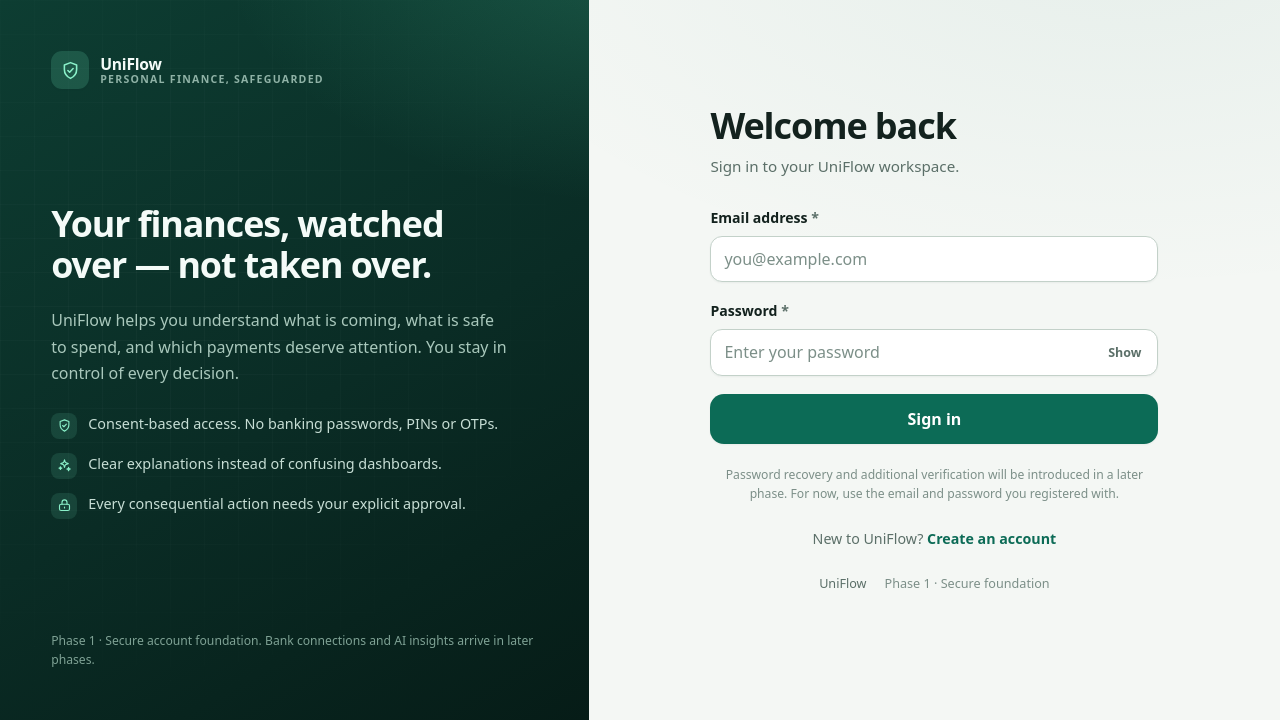
login form › shows invalid credential errors from the API
Type "asha@example.com" into the field labelled "Email address *" at (934, 259), box left=710, top=236, right=1158, bottom=282
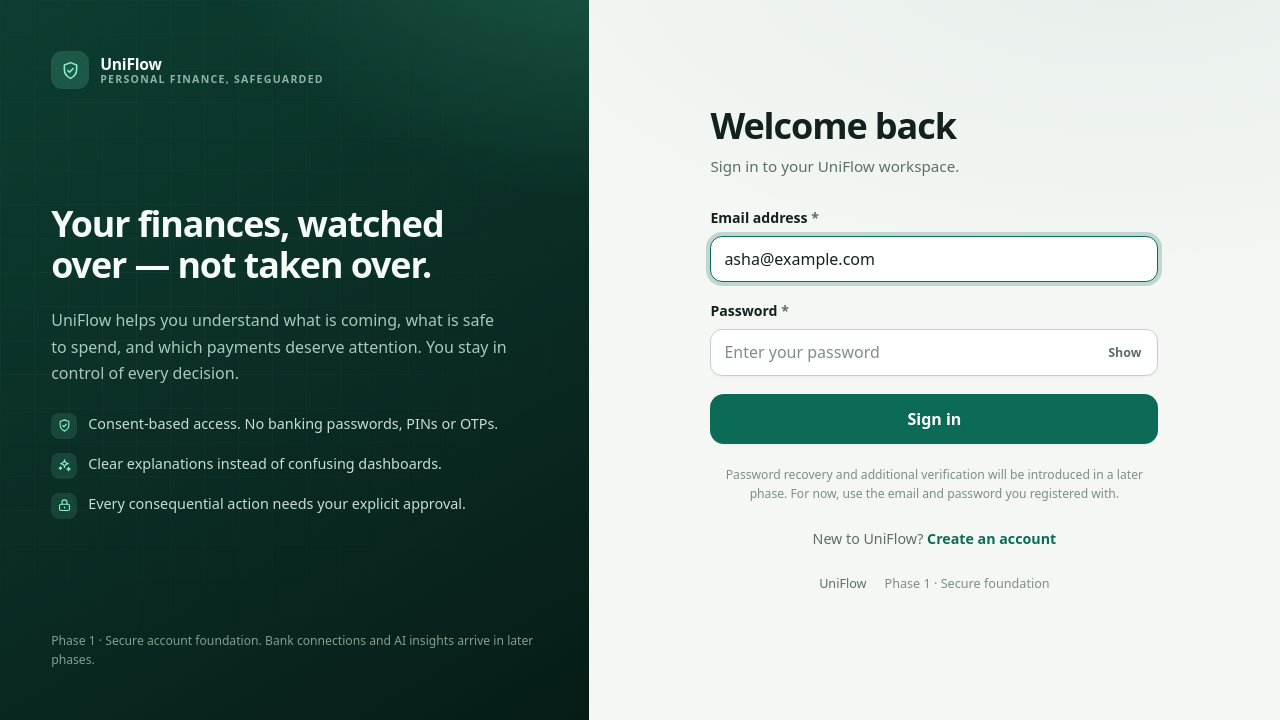
Type "Guardian123" into the password field labelled "Password *" at (934, 352), box left=710, top=329, right=1158, bottom=376
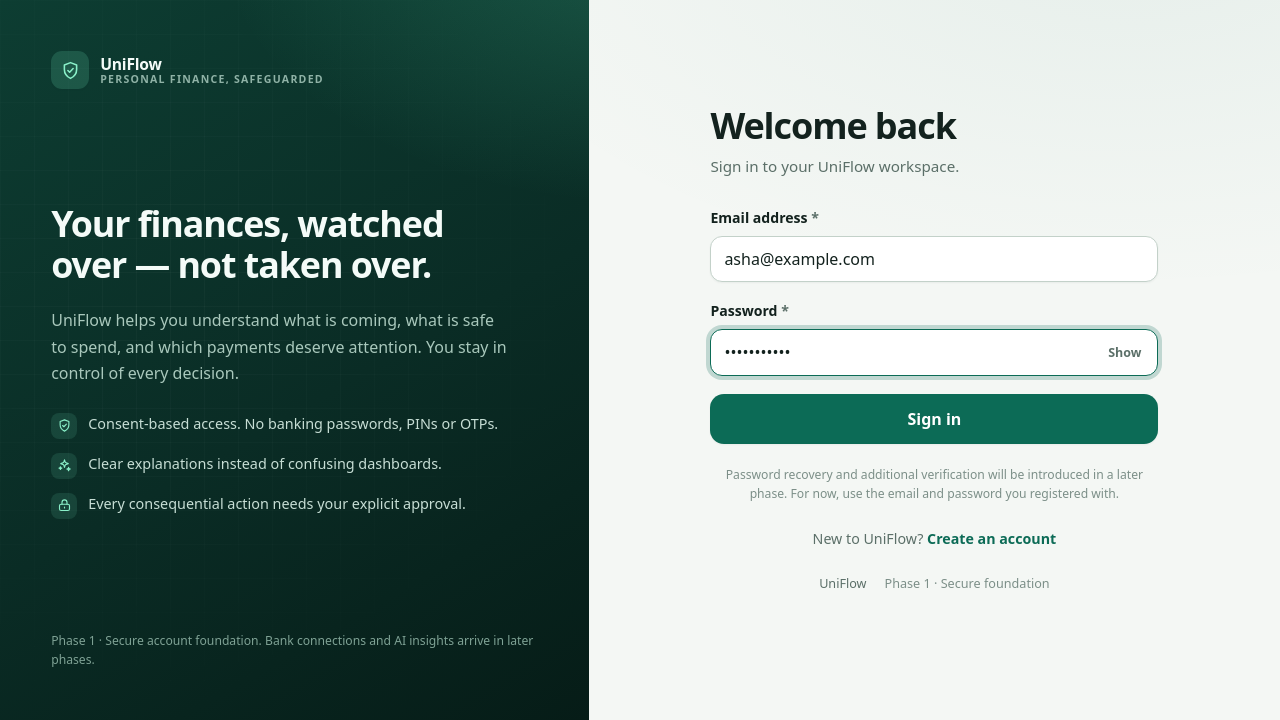
Click the button "Sign in" at (934, 419), box left=710, top=394, right=1158, bottom=444
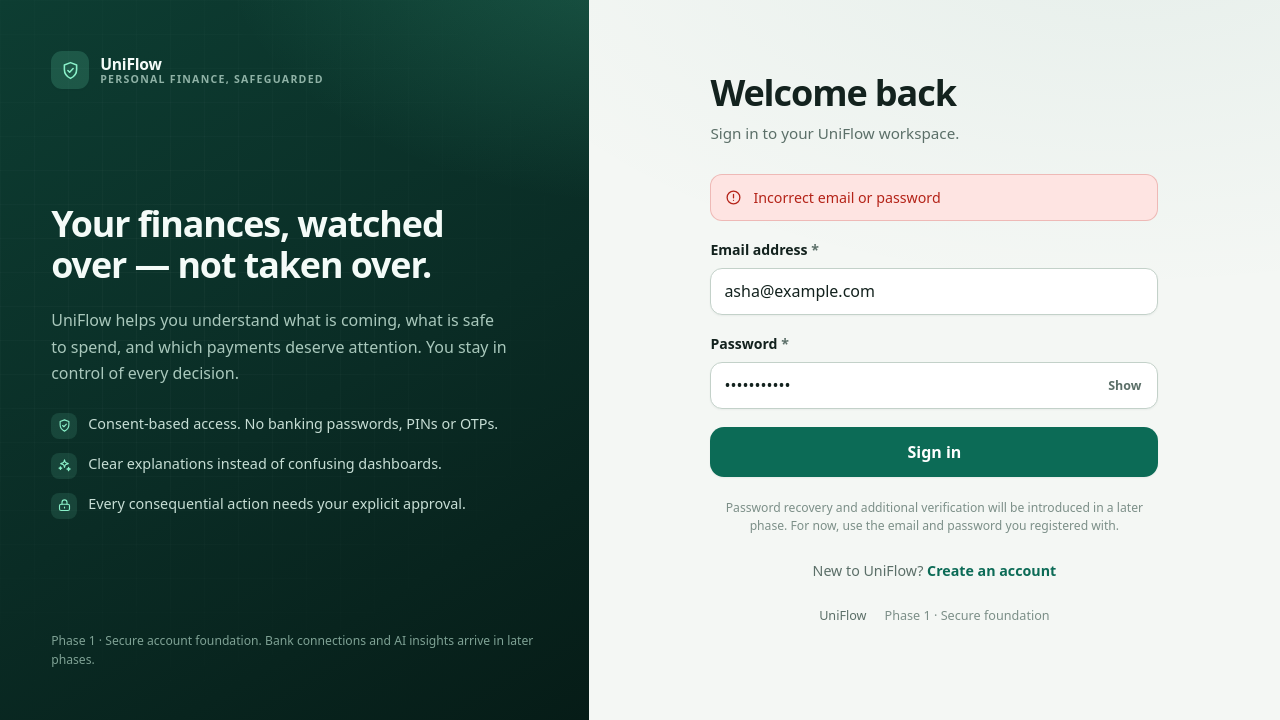
Now the text "Incorrect email or password" is shown, box left=753, top=187, right=941, bottom=208
